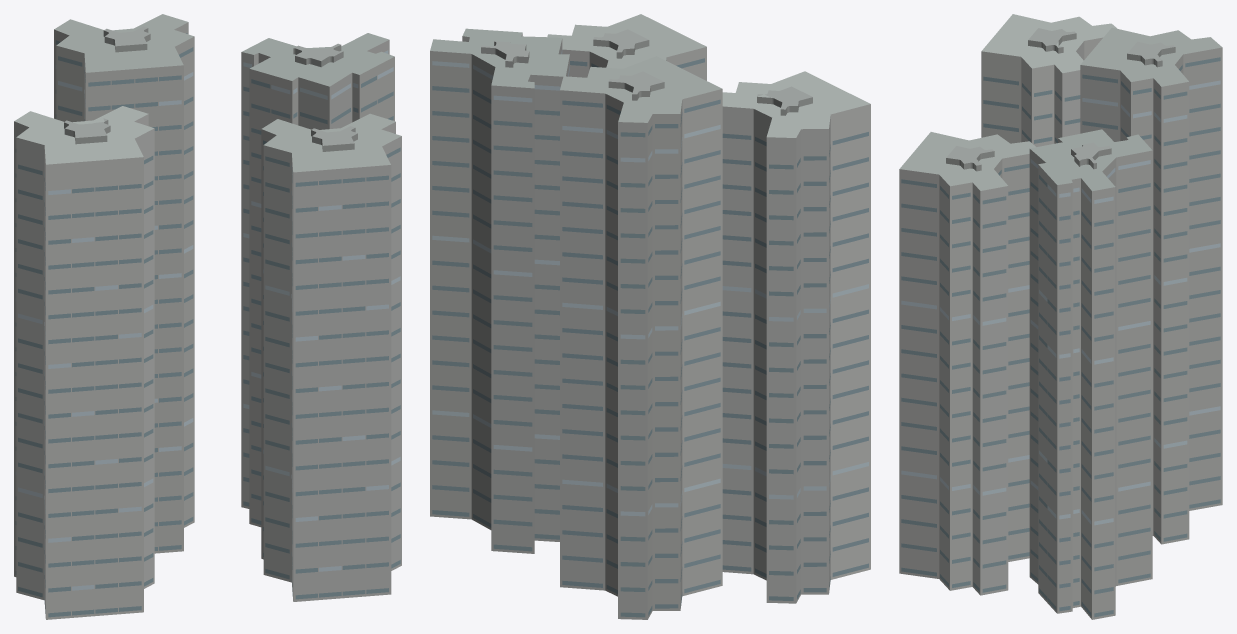
Rendered from apt-a10023188.glb.
3 renders of one model, left to right at view 1: azimuth 30°, elevation 25°; view 2: azimuth 150°, elevation 25°; view 3: azimuth 270°, elevation 25°, orthographic. The views are drawn at different scales.
Visible parts, largest first — view 1: apt-a10023188; view 2: apt-a10023188; view 3: apt-a10023188.
Part boxes in pixels (x1,y1,x2,y2): apt-a10023188: [14, 14, 401, 619]; apt-a10023188: [430, 14, 870, 619]; apt-a10023188: [899, 14, 1222, 619].
Size of the model in its own units: 158 by 192 by 121.
